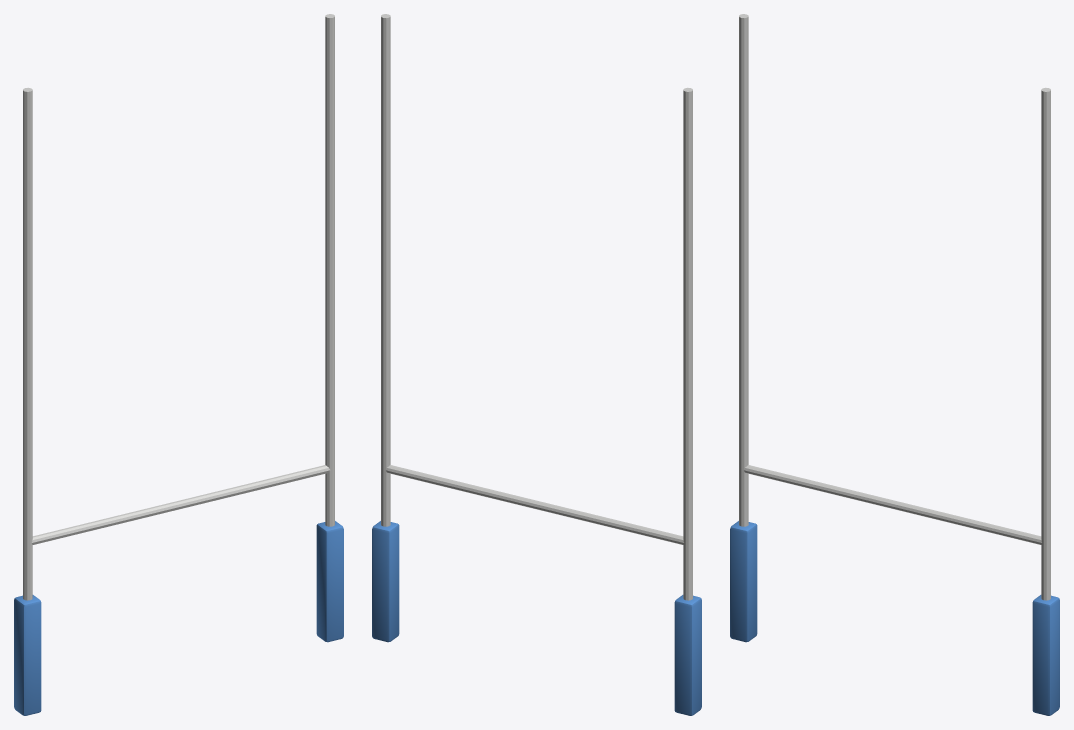
File: poteaux_rugby.glb
The picture shows the model from 3 angles, left to right: view 1: azimuth 30°, elevation 25°; view 2: azimuth 150°, elevation 25°; view 3: azimuth 330°, elevation 25°; orthographic projection.
Visible parts, largest first — view 1: poteaux_rugby; view 2: poteaux_rugby; view 3: poteaux_rugby.
Part boxes in pixels (x1=…): poteaux_rugby: x1=14, y1=14, x2=343, y2=715; poteaux_rugby: x1=372, y1=14, x2=701, y2=715; poteaux_rugby: x1=730, y1=14, x2=1059, y2=715.
Size of the model in its own units: 5.95 by 11 by 0.35.
